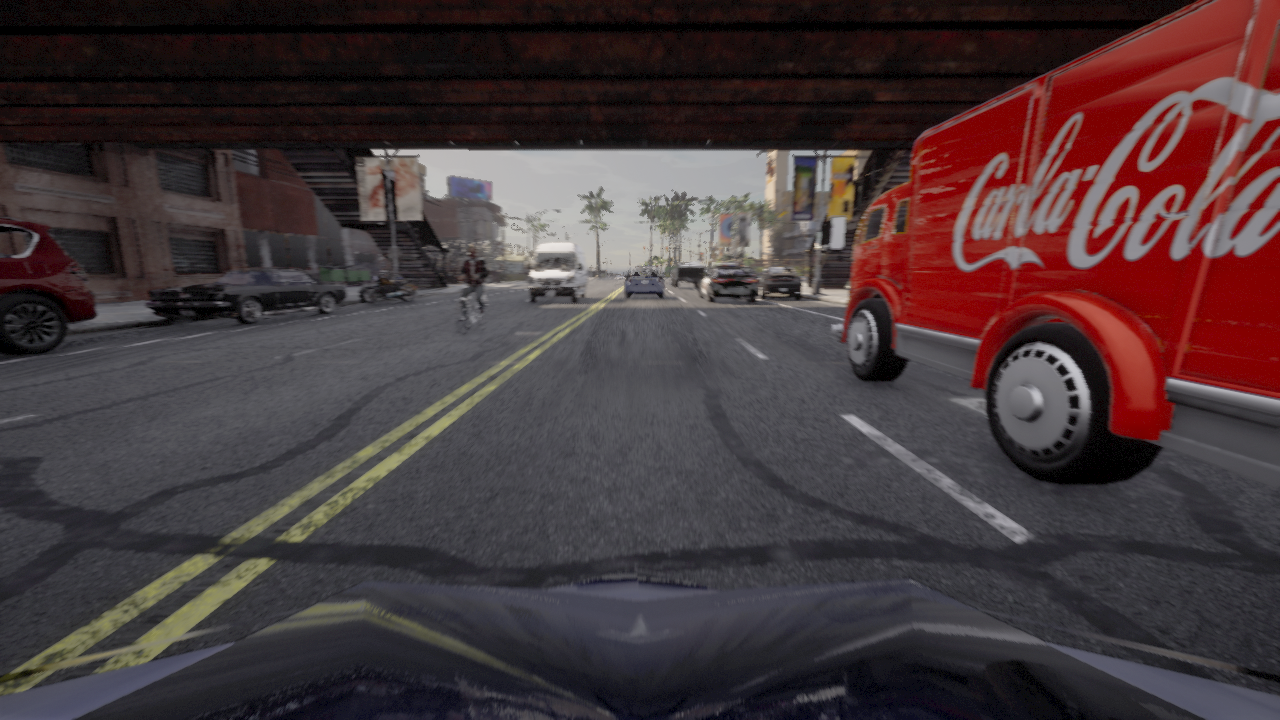cyclist: (827, 0, 1279, 487), (0, 569, 1279, 719), (145, 270, 345, 324), (527, 243, 586, 302), (698, 265, 758, 303), (359, 271, 416, 303), (456, 277, 487, 335), (754, 267, 802, 299), (625, 268, 663, 298), (670, 262, 704, 288), (738, 266, 756, 279), (389, 273, 405, 282), (381, 271, 394, 278), (525, 269, 527, 277)
